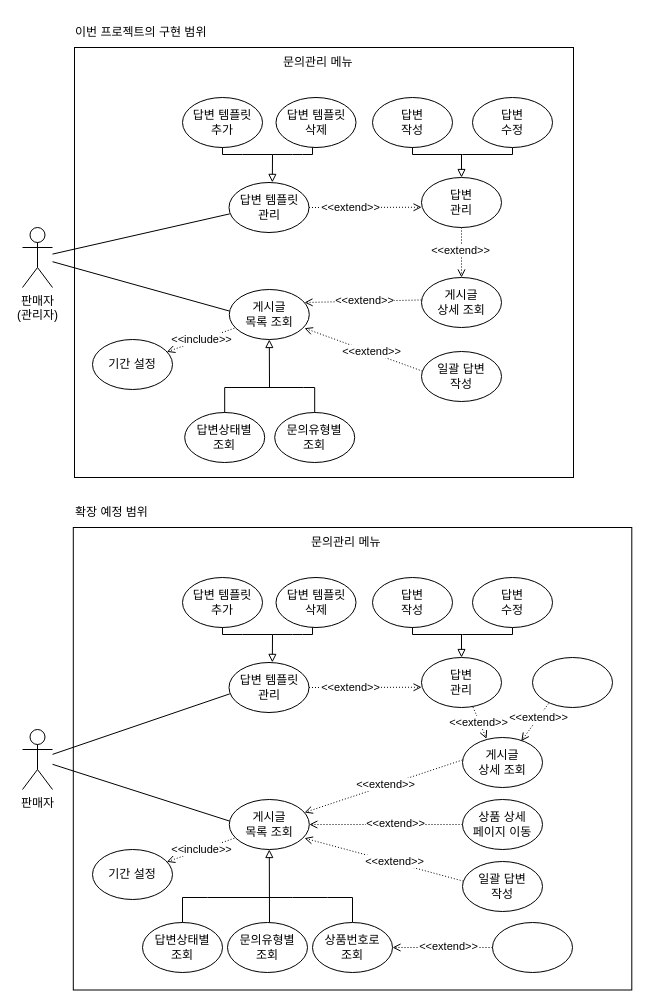
The diagram is 650 pixels wide and 1007 high, and some of its shapes have lost their labels. The shapes that lost their labels are listed below. From the top down, each one's box as (x1, y1, x2, y2) in pixels, then its label:
(532, 656, 612, 708): 구매내역 조회
(492, 922, 572, 972): 판매상품 목록조회
